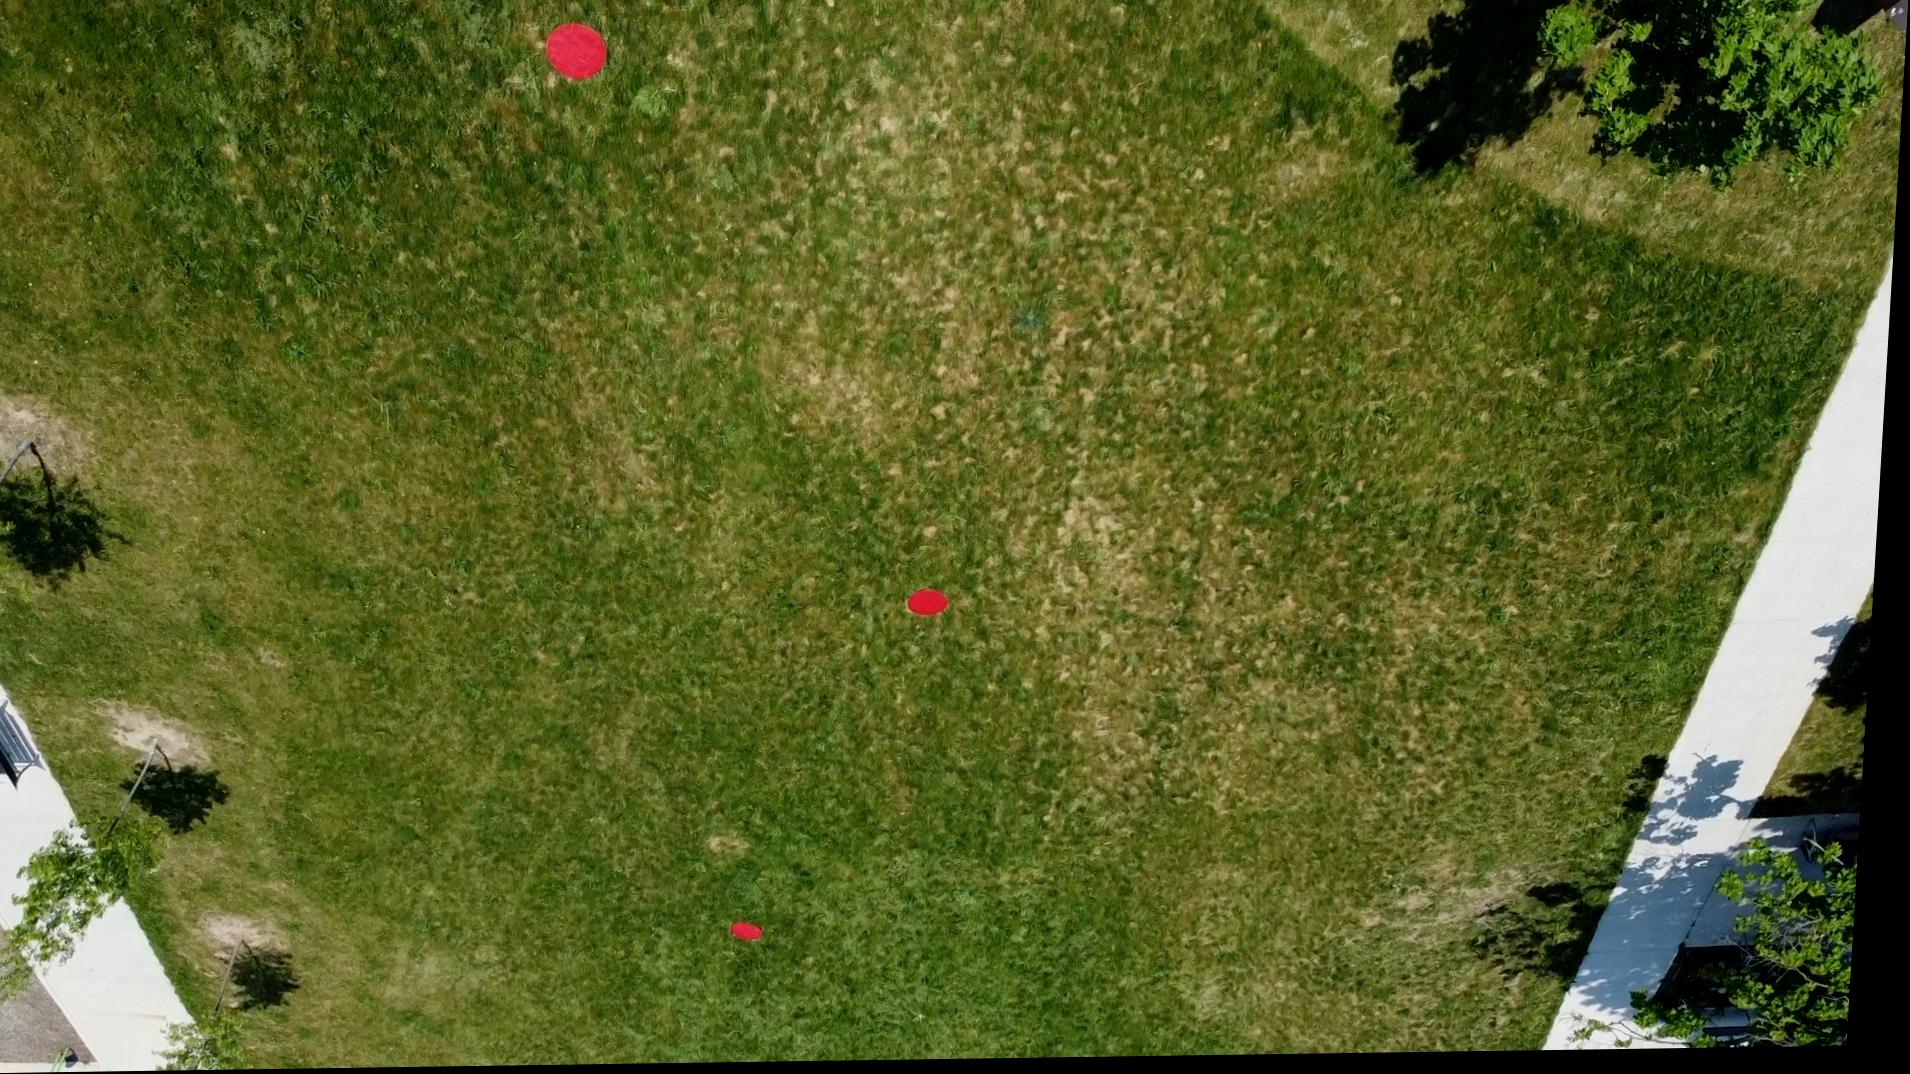Red: (539, 22, 614, 83), (913, 587, 959, 622), (740, 922, 779, 944)
